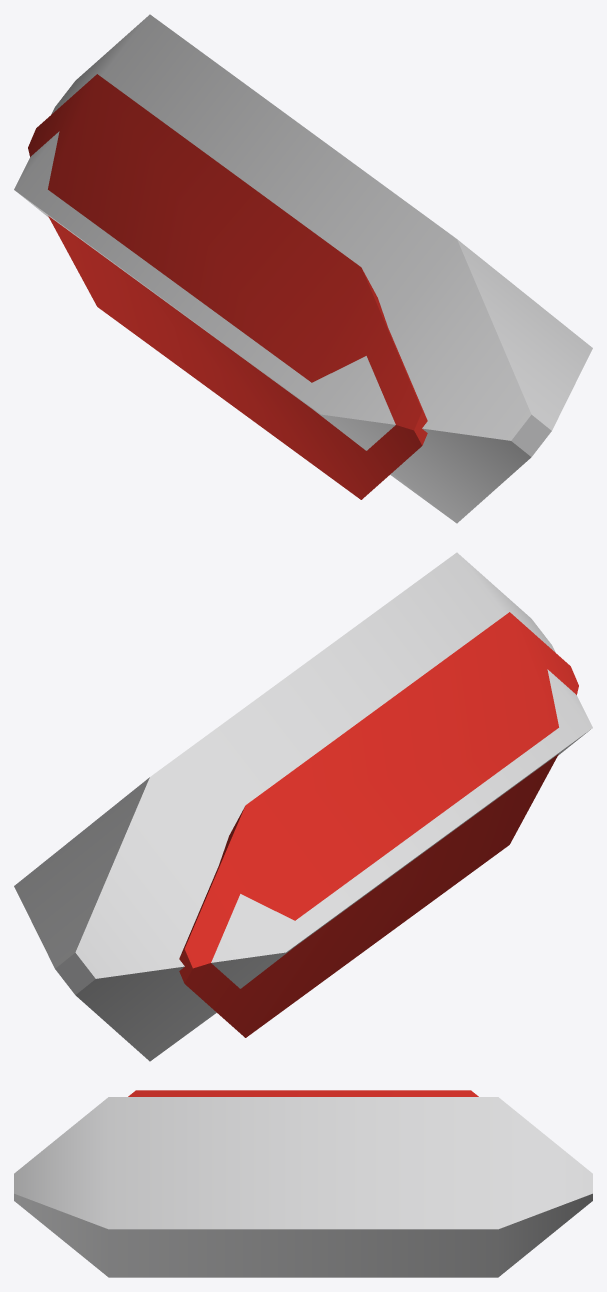
The model's file is cateye_lod2.glb.
3 renders of one model, top to bottom at view 1: azimuth 30°, elevation 25°; view 2: azimuth 150°, elevation 25°; view 3: azimuth 270°, elevation 25°, orthographic. The views are drawn at different scales.
Parts seen in each view (by area): view 1: cateye_lod2; view 2: cateye_lod2; view 3: cateye_lod2.
Part boxes in pixels (box(x1,y1,x2,y2)): cateye_lod2: box(14, 14, 592, 523); cateye_lod2: box(14, 552, 592, 1061); cateye_lod2: box(14, 1090, 592, 1277).
Size of the model in its own units: 0.044 by 0.044 by 0.1278.
